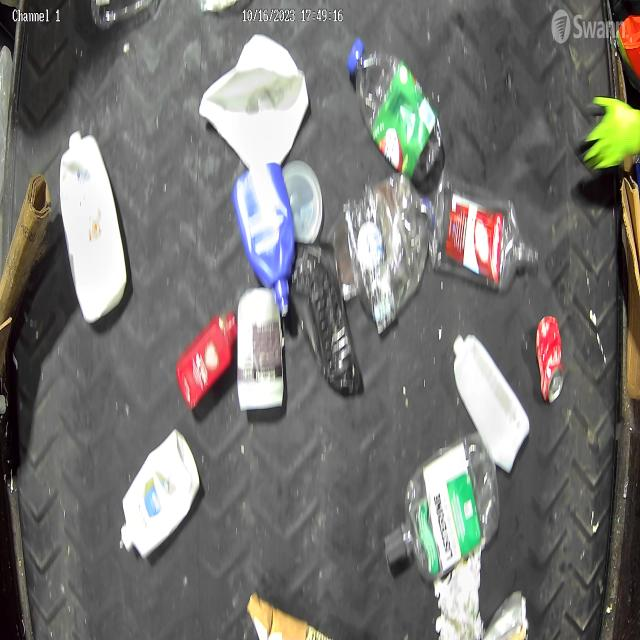can: (534, 314, 566, 404)
milk_jug: (202, 33, 307, 167)
non_white_jug: (234, 160, 300, 311)
plastic_bottle: (387, 437, 502, 586), (350, 42, 440, 182), (431, 172, 535, 291)
